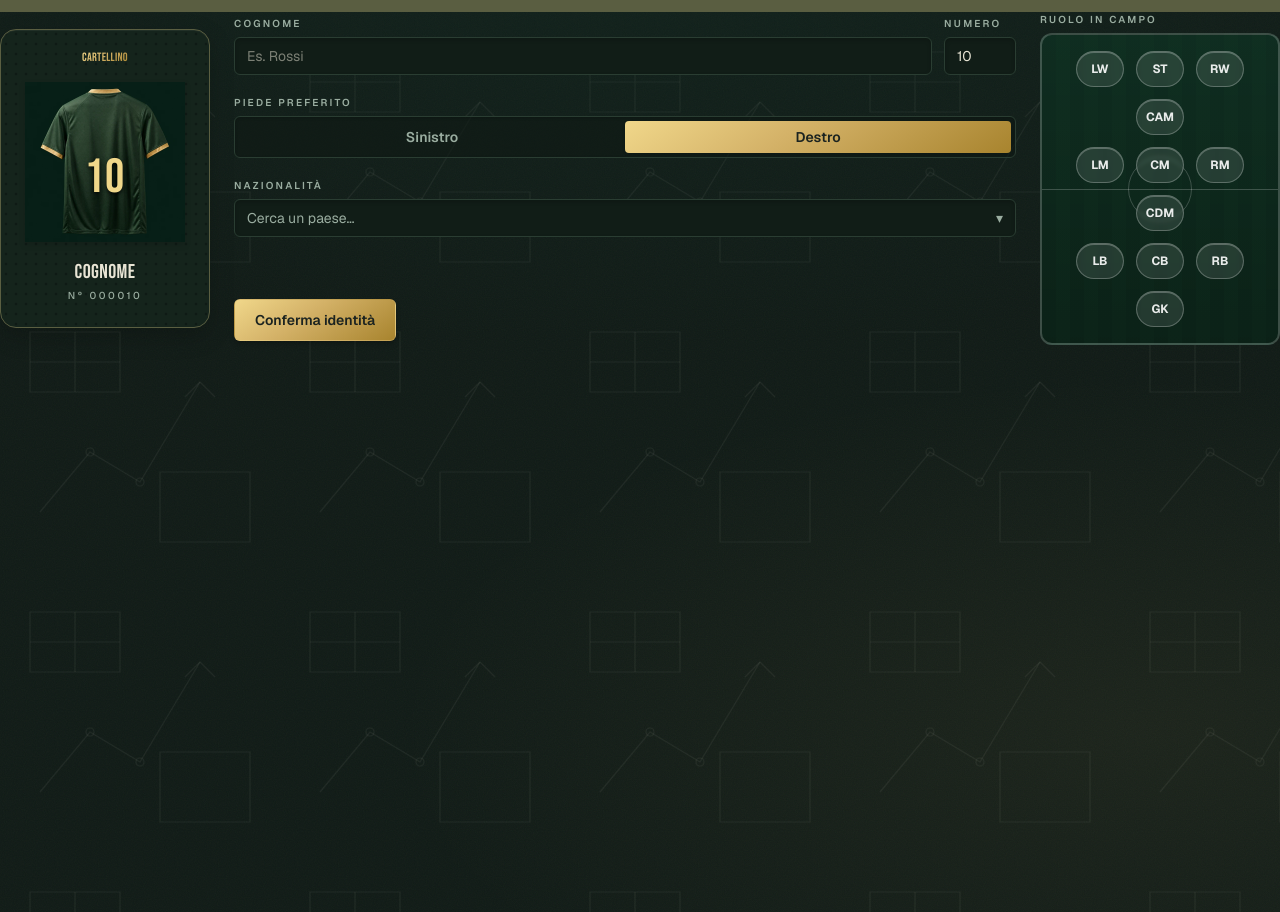
Test case: IdentityForm › dovrebbe mostrare errori di validazione se si conferma con campi mancanti
Click the button "Conferma identità": (315, 320) 234,299 -> 396,341
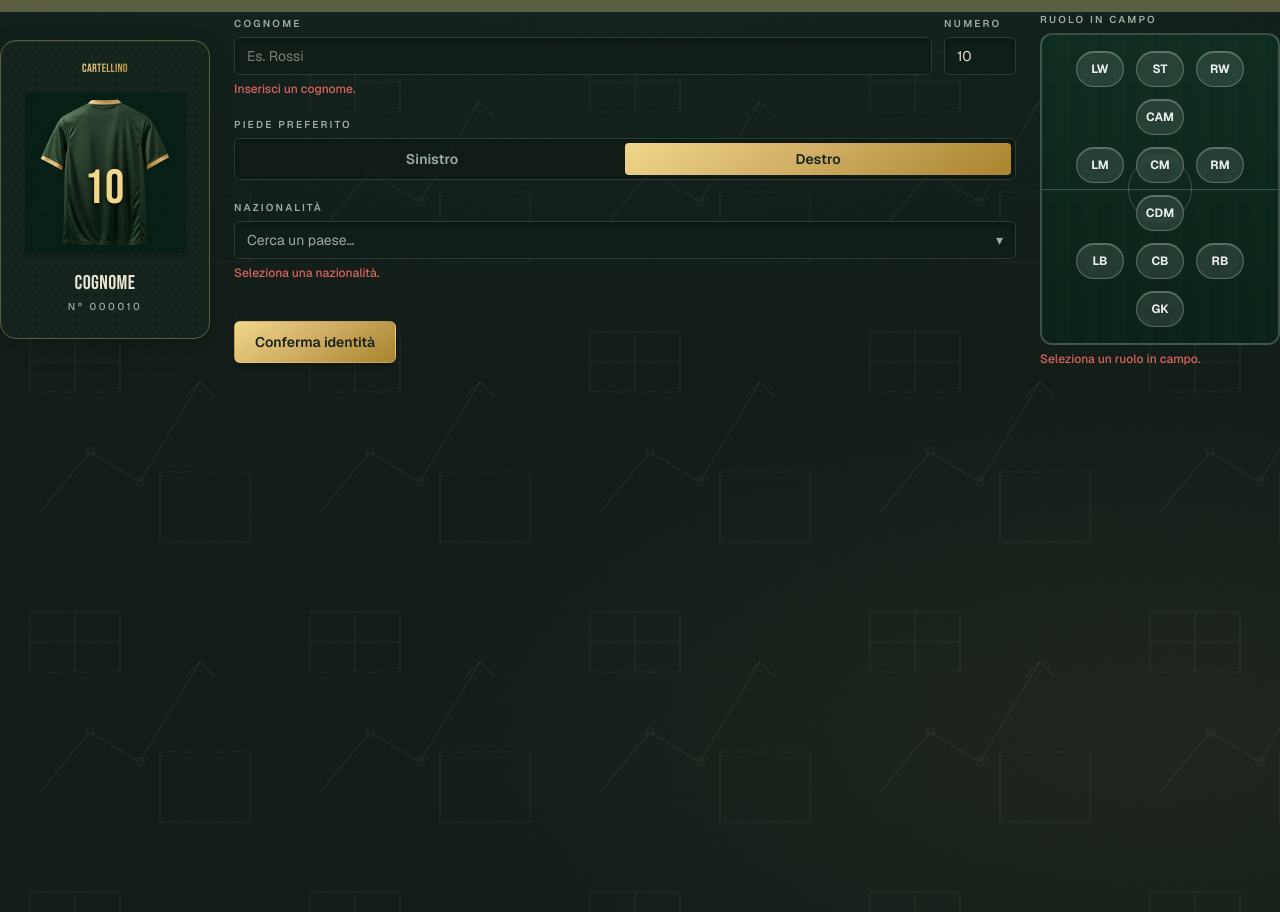
Result: the text "Inserisci un cognome." is shown at 234,81 -> 356,97
Result: the text "Seleziona una nazionalità." is shown at 234,265 -> 380,281
Result: the text "Seleziona un ruolo in campo." is shown at 1040,351 -> 1200,367
